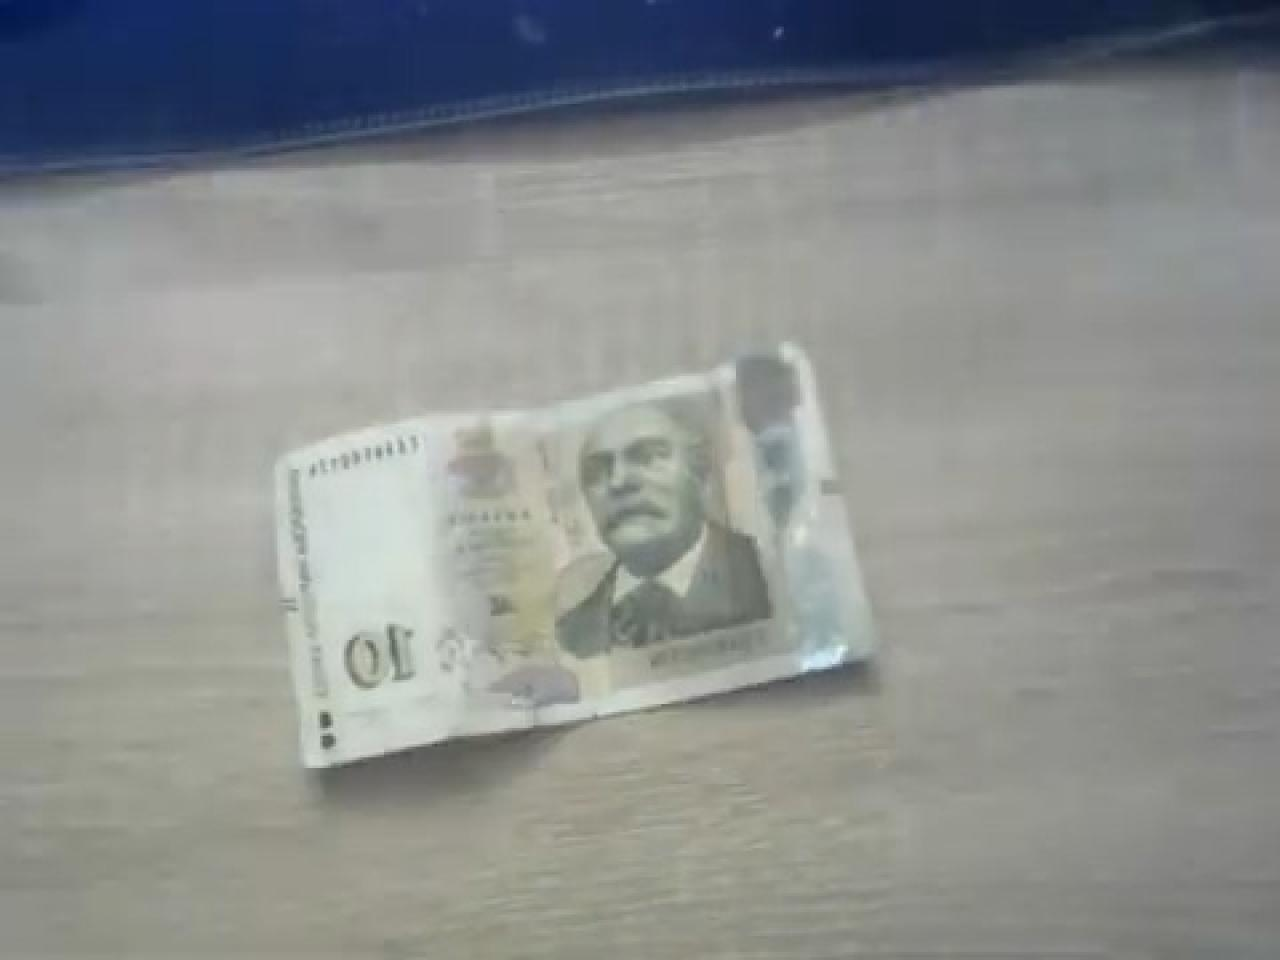10leva: (272, 336, 880, 770)
